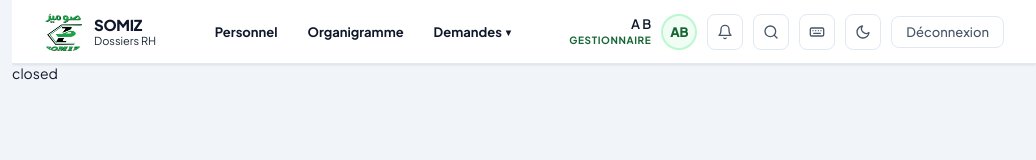
Test: Navbar (desktop) — menu déroulant « Demandes » › un GESTIONNAIRE voit Attestations et Consultations dans le déroulant
The image size is (1036, 160).
Check: the menu item "Attestations" is not shown
Click the button "Demandes ▾".
click(472, 32)  # box [420,16,525,46]
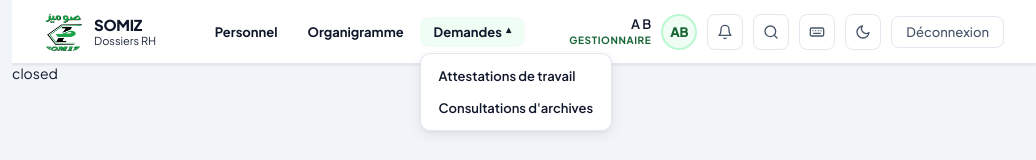
Check: the menu item "Attestations de travail" is shown, box [427,60,605,92]
Check: the menu item "Consultations d'archives" is shown, box [427,92,605,124]
